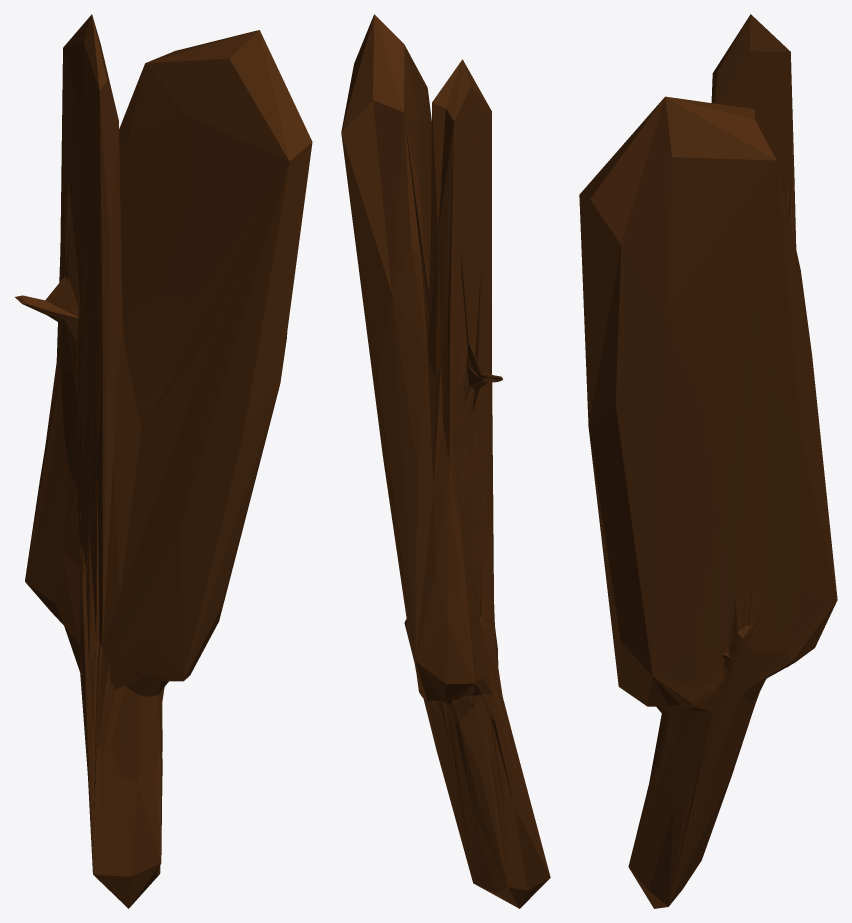
The picture shows the model from 3 angles, left to right: view 1: azimuth 30°, elevation 25°; view 2: azimuth 150°, elevation 25°; view 3: azimuth 270°, elevation 25°; orthographic projection. The views are drawn at different scales.
Visible parts, largest first — view 1: 107_Cube.448; view 2: 107_Cube.448; view 3: 107_Cube.448.
Boxes of the visible parts, left/top/right/bottom form: 107_Cube.448: left=15, top=14, right=312, bottom=908; 107_Cube.448: left=341, top=14, right=550, bottom=908; 107_Cube.448: left=579, top=14, right=837, bottom=908.
Bounding box in the file's own units: 4.12 × 16.66 × 4.33.
